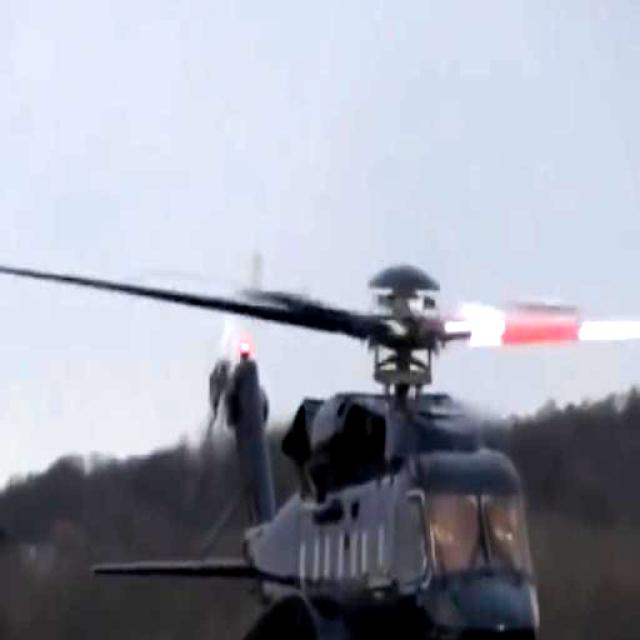drone: (84, 214, 619, 640)
